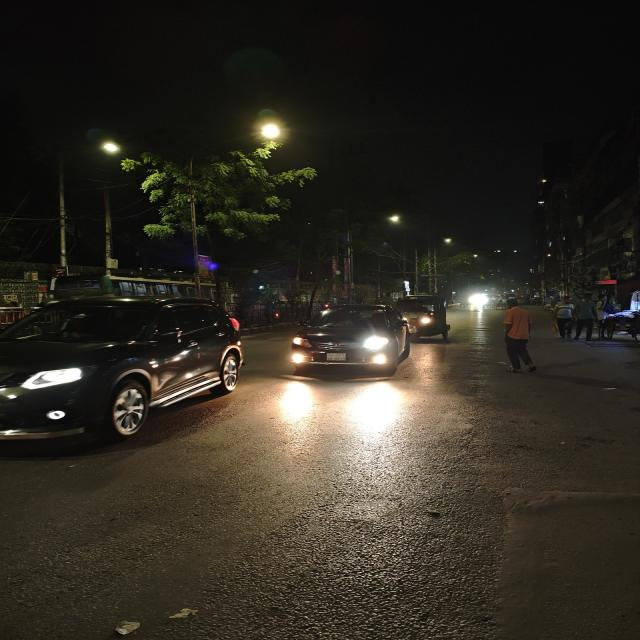car: (1, 292, 254, 454), (283, 302, 420, 383)
cng: (397, 291, 457, 340)
pedestrian: (497, 296, 538, 376), (572, 291, 597, 341), (552, 295, 575, 339)
